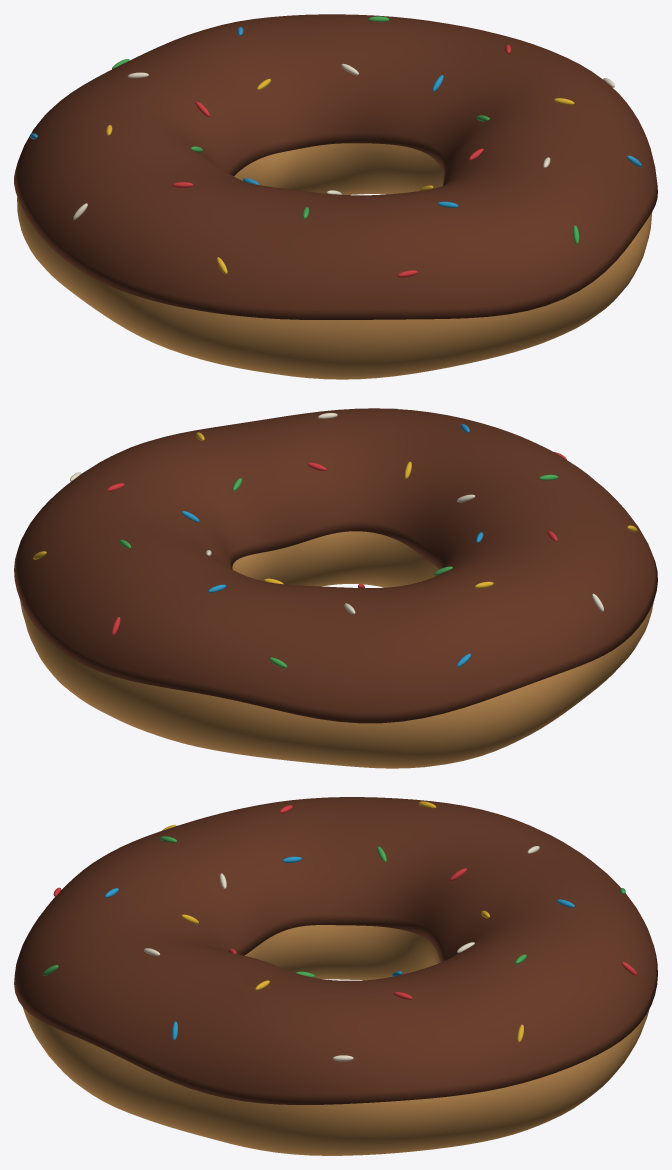
3 views of the same model, one above another, from view 1: azimuth 30°, elevation 25°; view 2: azimuth 150°, elevation 25°; view 3: azimuth 270°, elevation 25° (orthographic).
Visible parts, largest first — view 1: Closed draped icing layer, Closed irregular dough ring; view 2: Closed draped icing layer, Closed irregular dough ring; view 3: Closed draped icing layer, Closed irregular dough ring.
Boxes of the visible parts, x1,y1,x2,y2 form: Closed draped icing layer: (14, 14, 657, 319); Closed irregular dough ring: (17, 143, 652, 379); Closed draped icing layer: (14, 408, 657, 723); Closed irregular dough ring: (20, 531, 653, 768); Closed draped icing layer: (14, 797, 657, 1104); Closed irregular dough ring: (23, 925, 648, 1155).
Bounding box in the file's own units: 0.0998 × 0.0279 × 0.0998.
